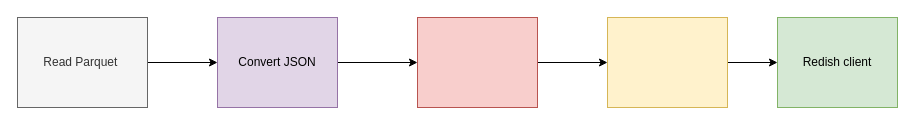
This 915x125 diagram has some shape labels left out. Each missing label, with the centre of its shape:
"Consumer (Python) and put it in Redis DB" goes at [477,62].
"Redis DB" goes at [667,62].
